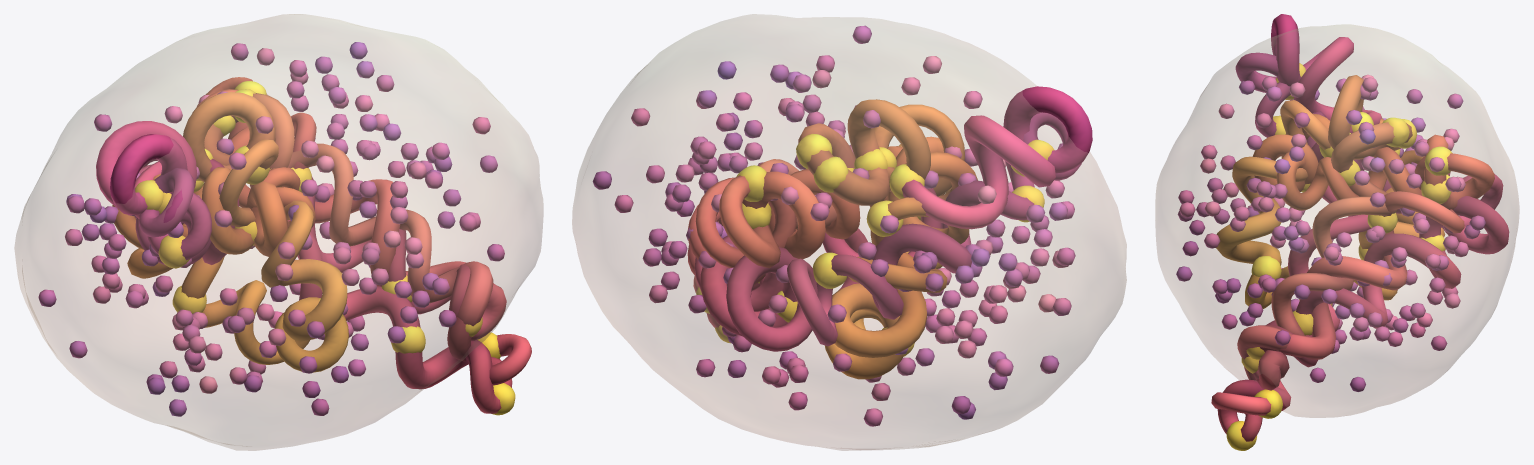
The model's file is nucleoid.glb.
The picture shows the model from 3 angles, left to right: view 1: azimuth 30°, elevation 25°; view 2: azimuth 150°, elevation 25°; view 3: azimuth 270°, elevation 25°; orthographic projection. The views are drawn at different scales.
Parts seen in each view (by area): view 1: nucleoid-cloud, nucleoid-fibre, nucleoid-speckles, nucleoid-proteins; view 2: nucleoid-cloud, nucleoid-fibre, nucleoid-speckles, nucleoid-proteins; view 3: nucleoid-cloud, nucleoid-fibre, nucleoid-speckles, nucleoid-proteins.
Boxes of the visible parts, x1,y1,x2,y2 form: nucleoid-cloud: (14,14,543,450); nucleoid-fibre: (96,77,531,413); nucleoid-speckles: (38,42,504,416); nucleoid-proteins: (135,81,515,415); nucleoid-cloud: (572,14,1126,450); nucleoid-fibre: (687,86,1092,379); nucleoid-speckles: (592,25,1075,426); nucleoid-proteins: (696,133,1054,356); nucleoid-cloud: (1155,24,1519,417); nucleoid-fibre: (1211,14,1509,441); nucleoid-speckles: (1176,74,1485,391); nucleoid-proteins: (1226,63,1452,450).
Size of what is drawn, in the model's own units: 3.26 by 2.42 by 2.43.
